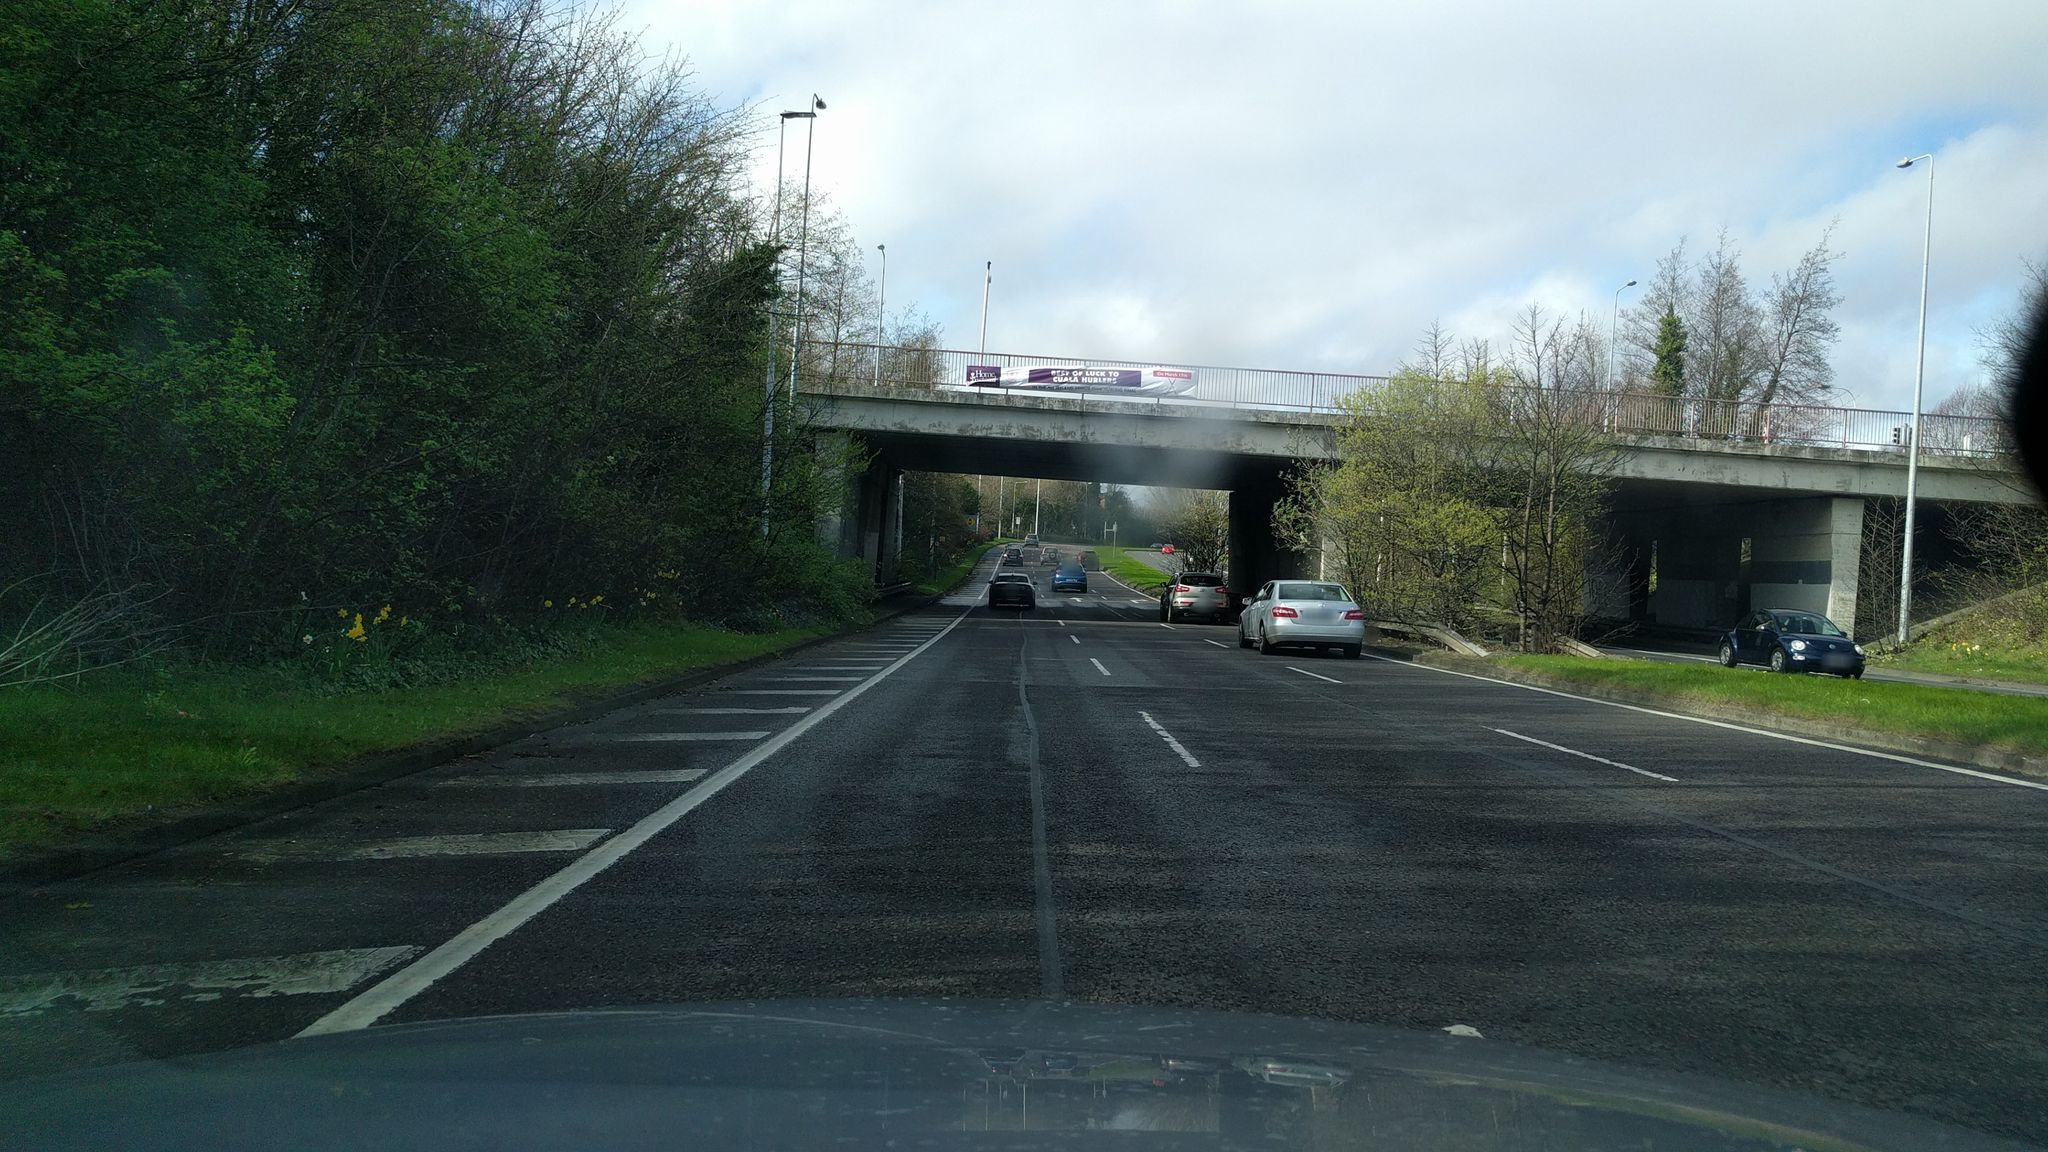vinyl banner: (952, 340, 1203, 408)
